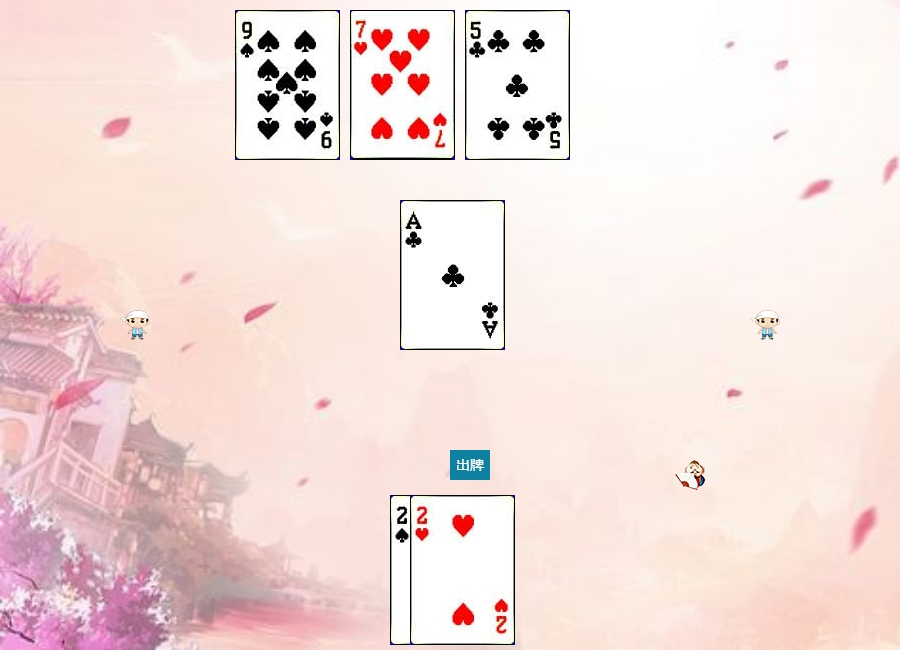14~2: (400, 200, 505, 350)
15~3: (410, 495, 515, 645)
15~4: (390, 495, 495, 645)
5~2: (465, 10, 570, 160)
7~3: (350, 10, 455, 160)
9~4: (235, 10, 340, 160)
